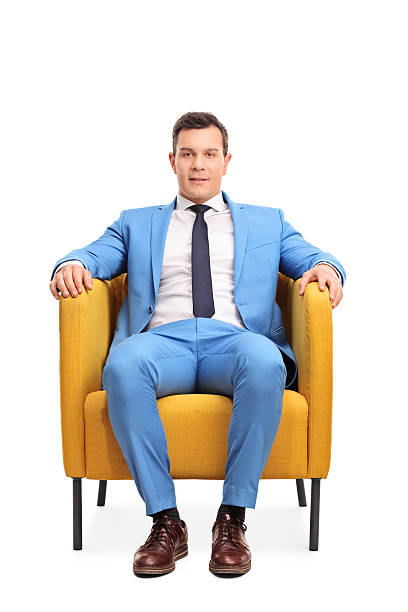chairs: (55, 266, 336, 555)
